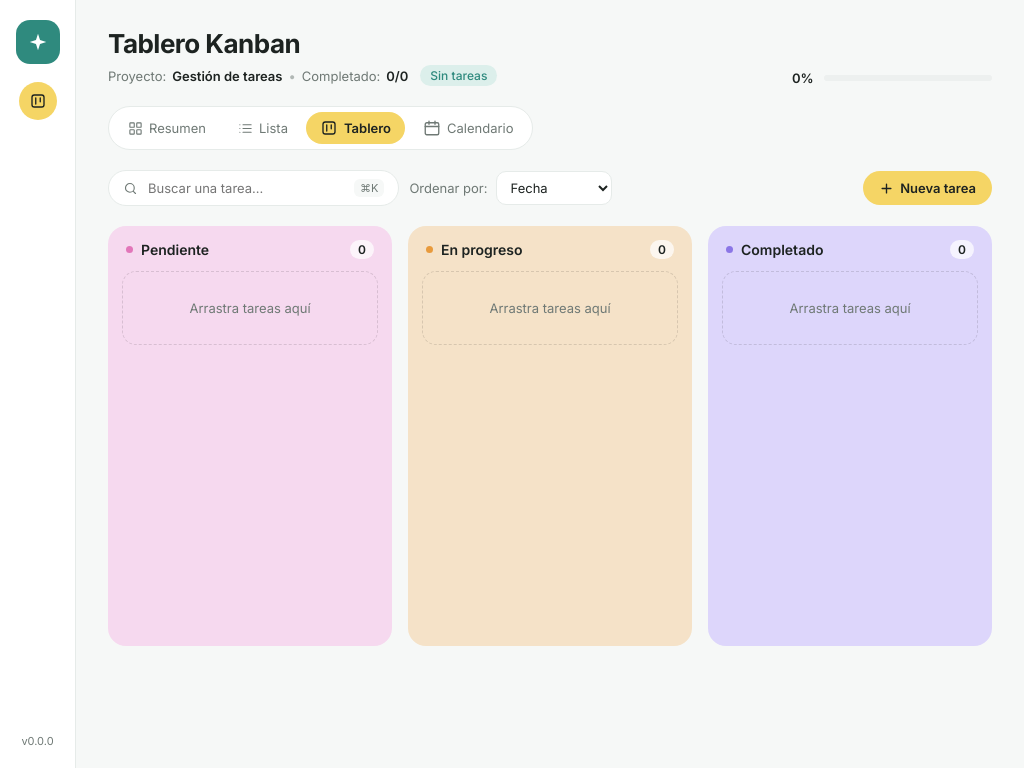
Test case: App Kanban › edita una tarea desde el modal
Click the button "Nueva tarea".
click(928, 188)  # box [863, 171, 992, 205]
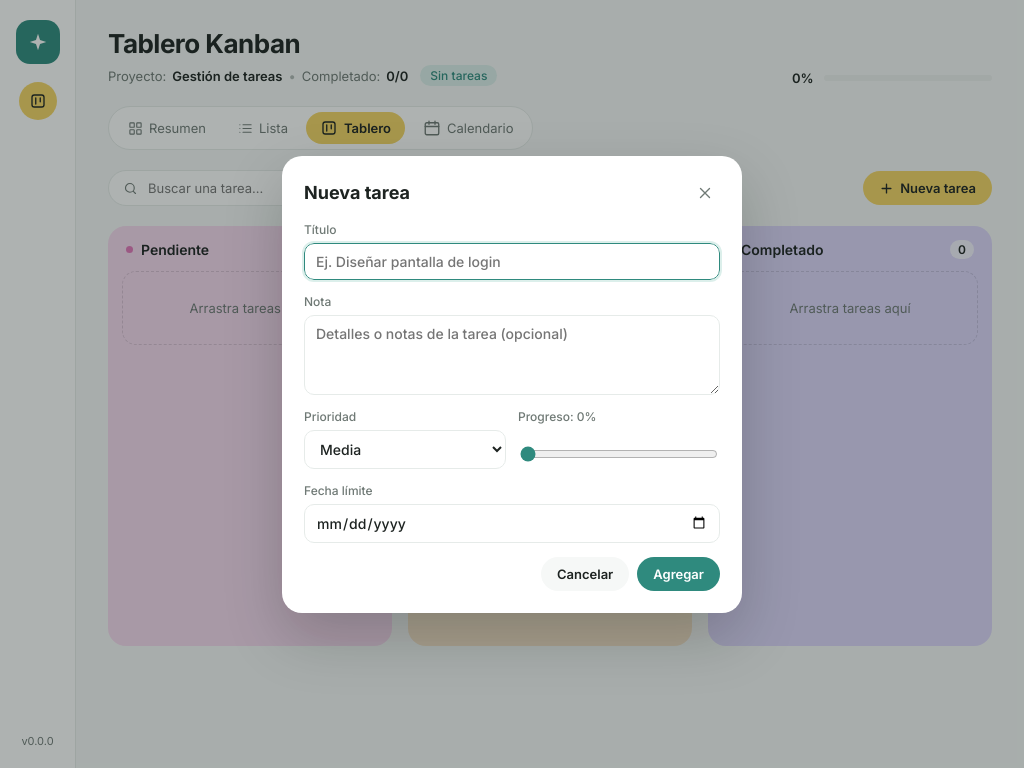
Type "Borrador" into the field labelled "Título".
click(512, 261); type("Borrador")  # box [304, 242, 720, 280]
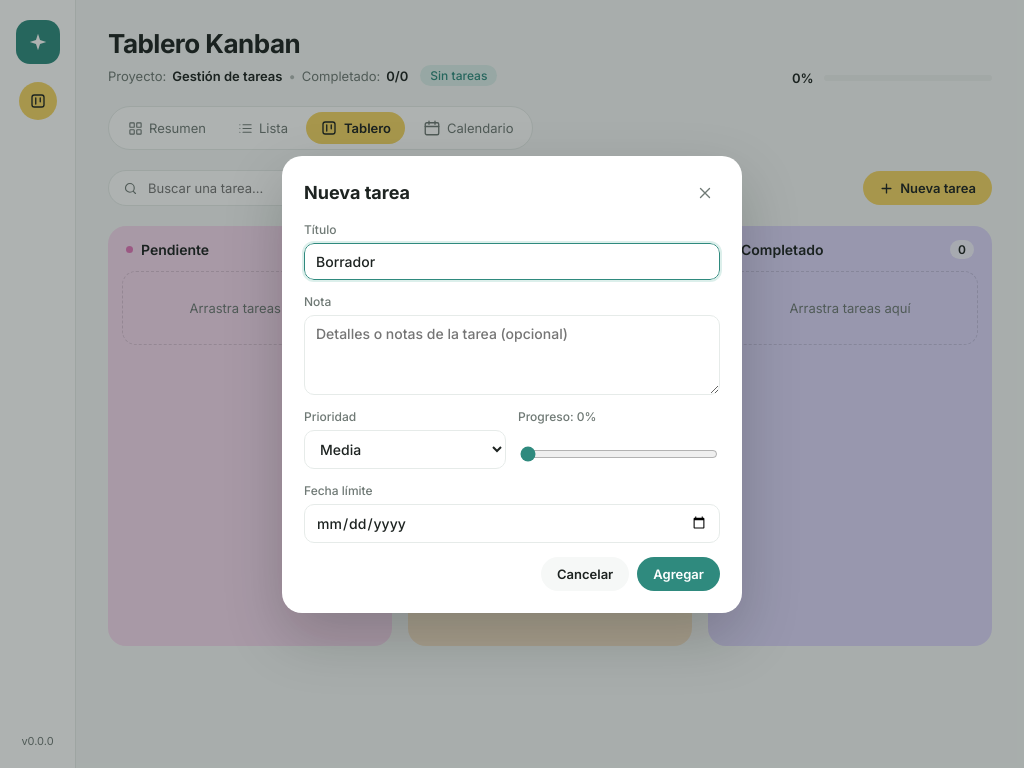
Click the button "Agregar".
click(679, 574)  # box [637, 556, 720, 590]
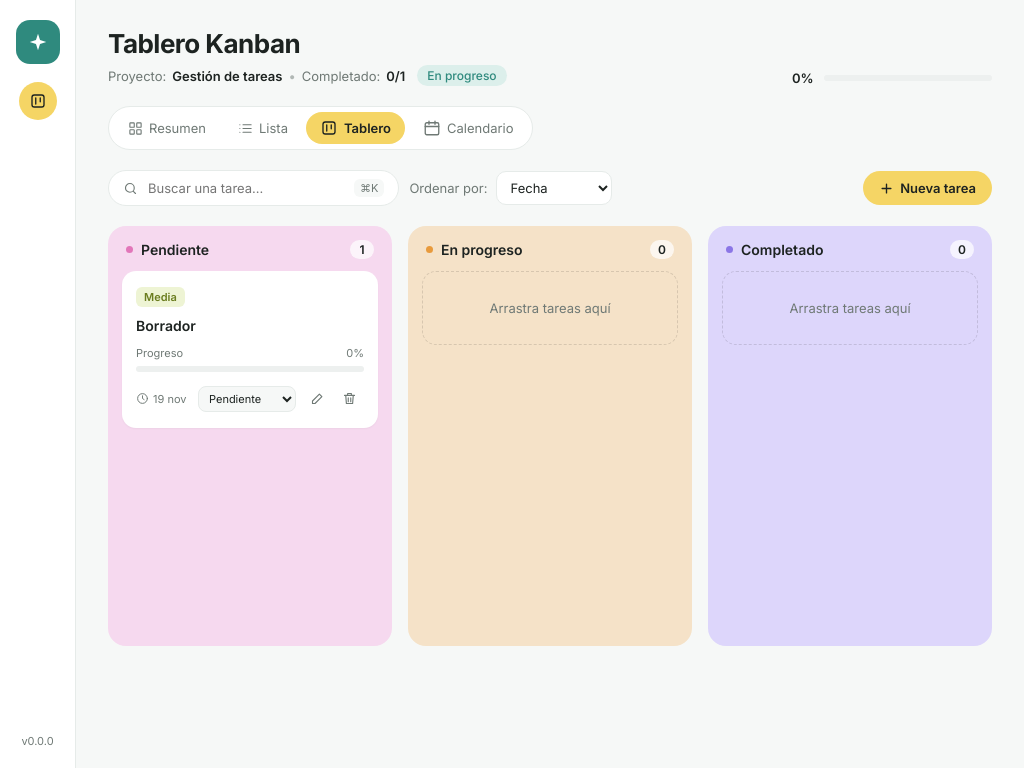
Click the button named "Editar".
click(317, 399)  # box [302, 384, 332, 414]
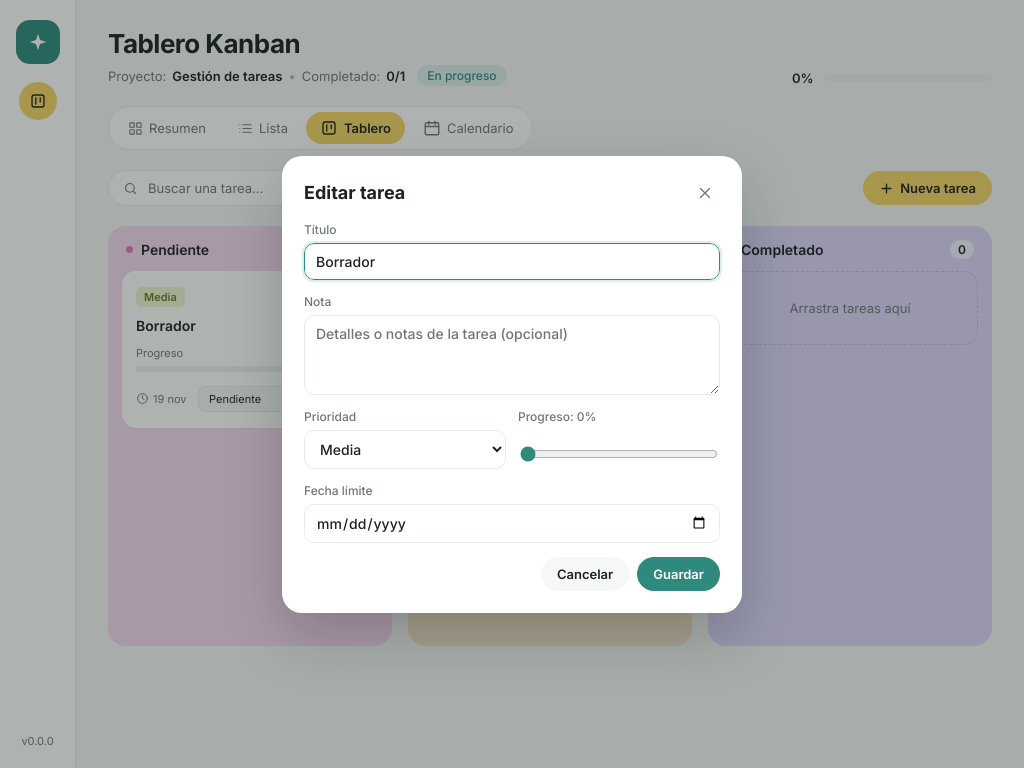
Replace the text in the field labelled "Título" with "Versión final" at (512, 261), box [304, 242, 720, 280]
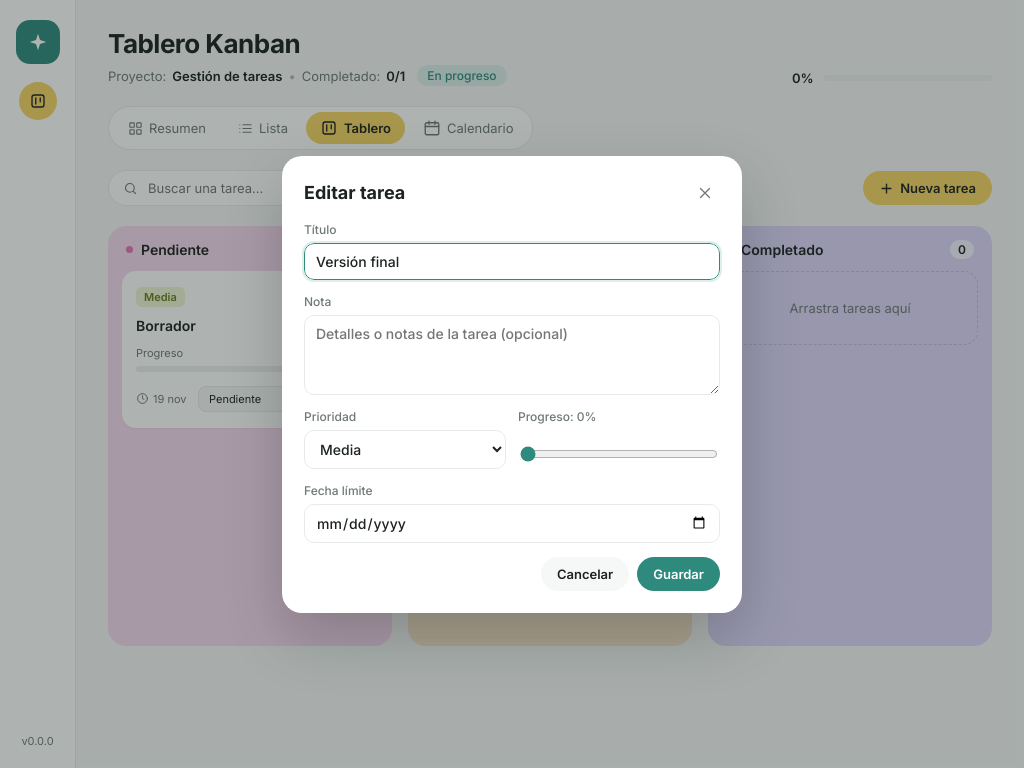
Click the button "Guardar".
click(679, 574)  # box [637, 556, 720, 590]
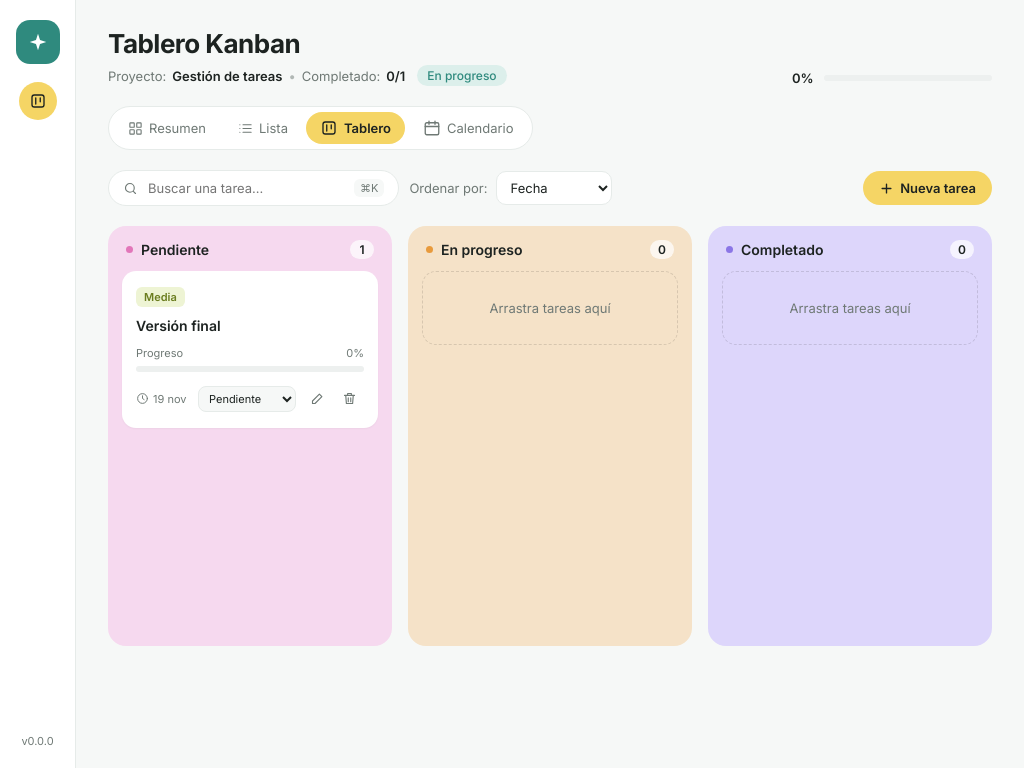
Result: the heading "Versión final" is shown at [136, 317, 221, 334]
Result: the heading "Borrador" is gone
